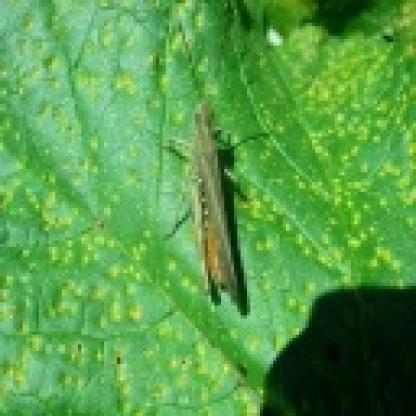grasshopper: (159, 93, 284, 312)
